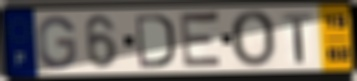6: (83, 14, 120, 71)
D: (133, 12, 177, 70)
E: (179, 9, 225, 71)
G: (36, 14, 79, 71)
O: (228, 9, 278, 69)
T: (281, 12, 314, 65)
